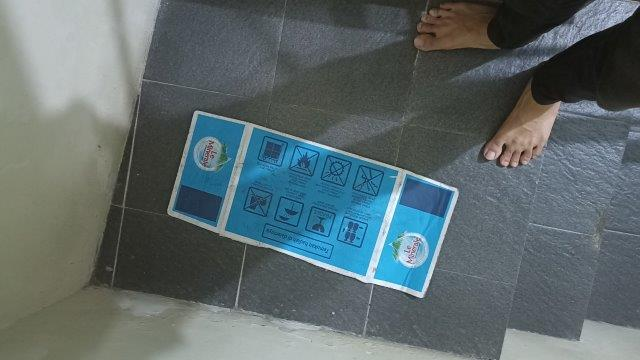kardus: (168, 111, 458, 296)
